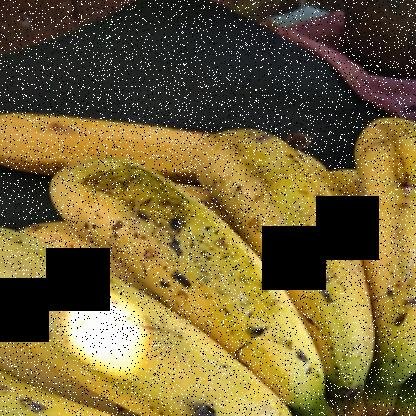freshripe: (1, 96, 197, 180)
ripe: (53, 163, 344, 408), (188, 126, 381, 400), (1, 237, 294, 415), (331, 111, 415, 382)
